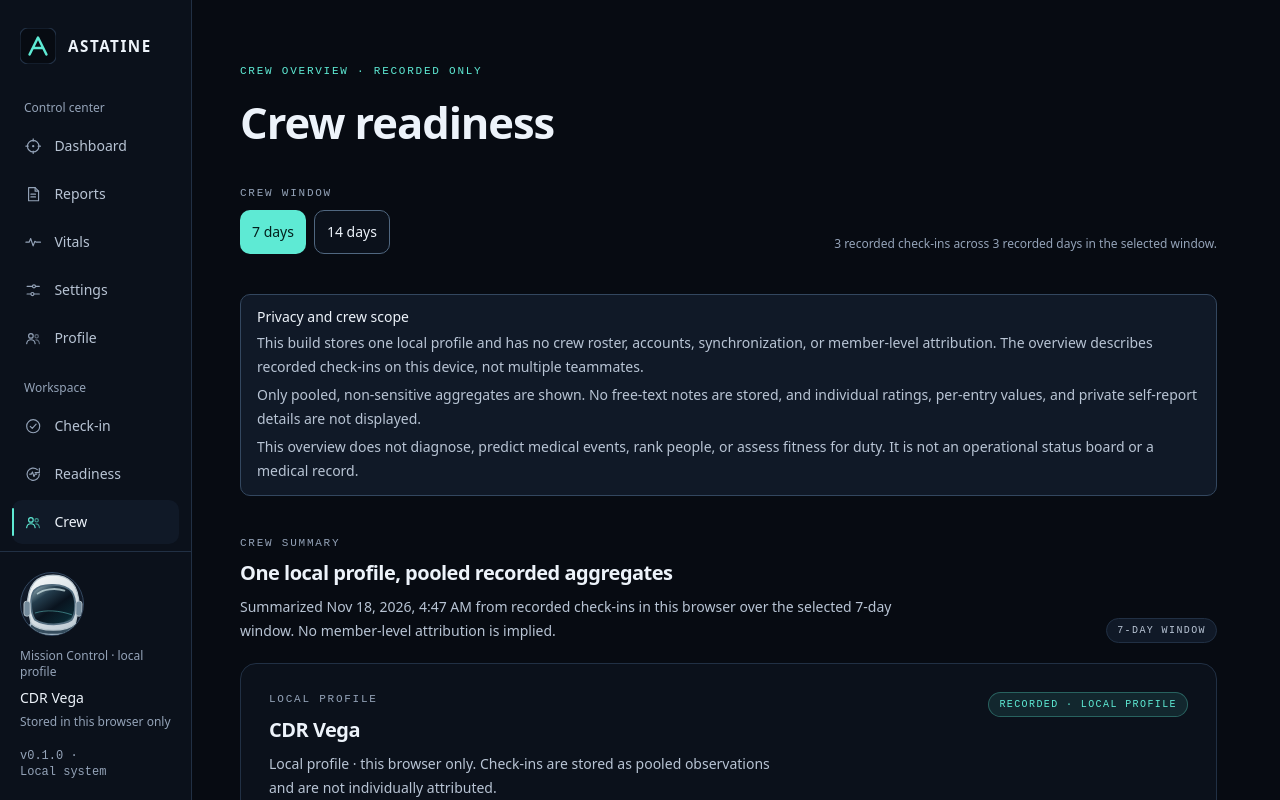
Scenario: CrewPage › aggregates multiple recorded check-ins into a privacy-conscious crew overview
The width and height of the screenshot is (1280, 800).
Expected: the heading "Crew readiness" is shown, x1=240 y1=92 x2=554 y2=152
Expected: the heading "One local profile, pooled recorded aggregates" is shown, x1=240 y1=559 x2=673 y2=586
What coordinates should you click on to do the following:
click the button "14 days"
I would click on:
 (352, 232)
Its box is x1=314 y1=210 x2=390 y2=254.
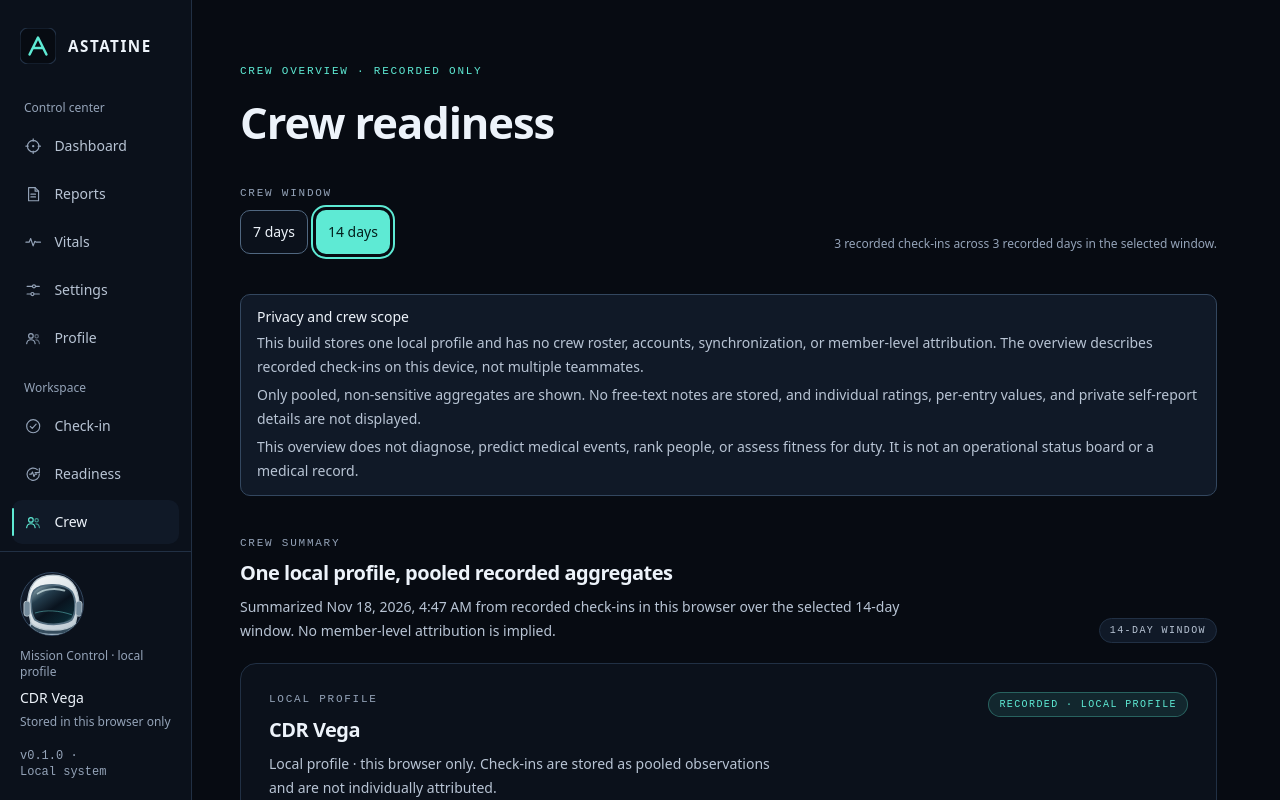
Expected: the heading "CDR Vega" is shown, x1=269 y1=716 x2=360 y2=742
Expected: the text "14-day window" is shown, x1=1099 y1=618 x2=1217 y2=643
